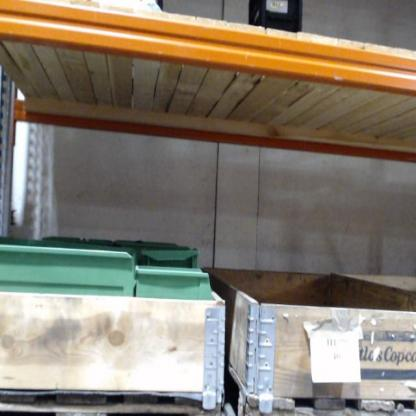pallet: (224, 363, 416, 416), (3, 378, 229, 413)
